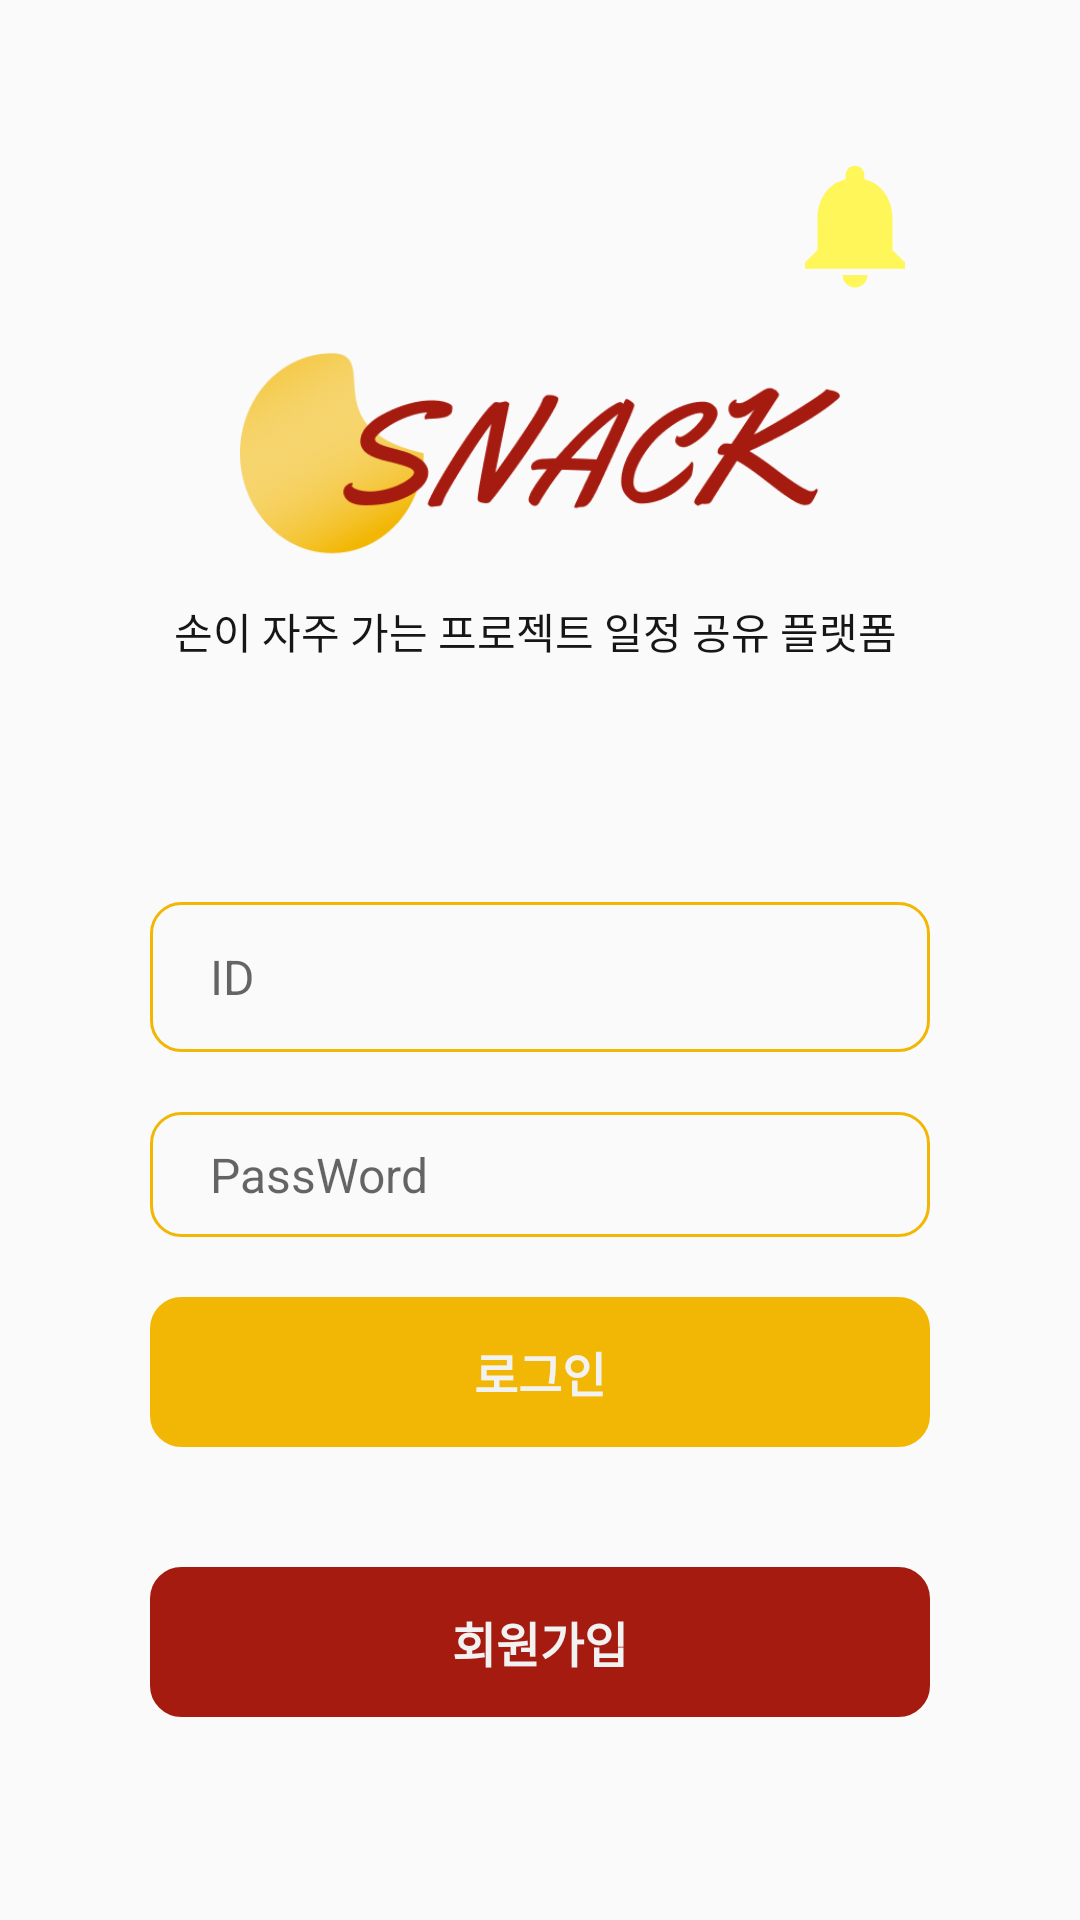

Where to tap for icons on this 1080 × 1920 app screen, as (x=x, y=y):
notifications: (x=855, y=226)
